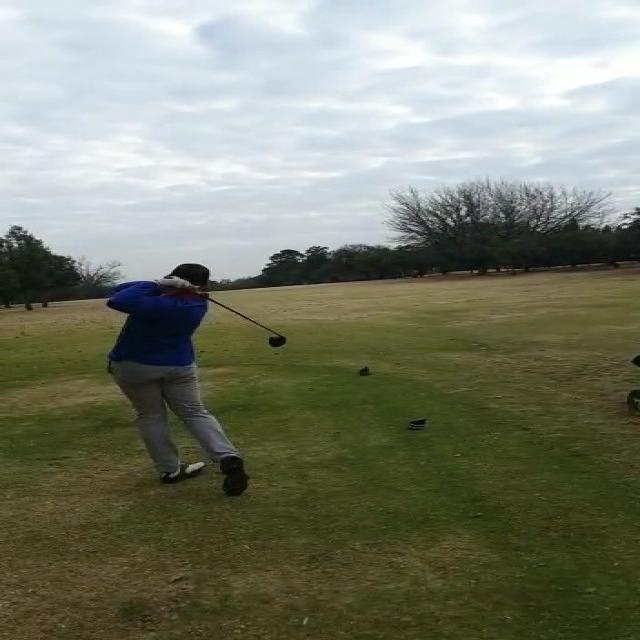club head: (264, 334, 288, 349)
